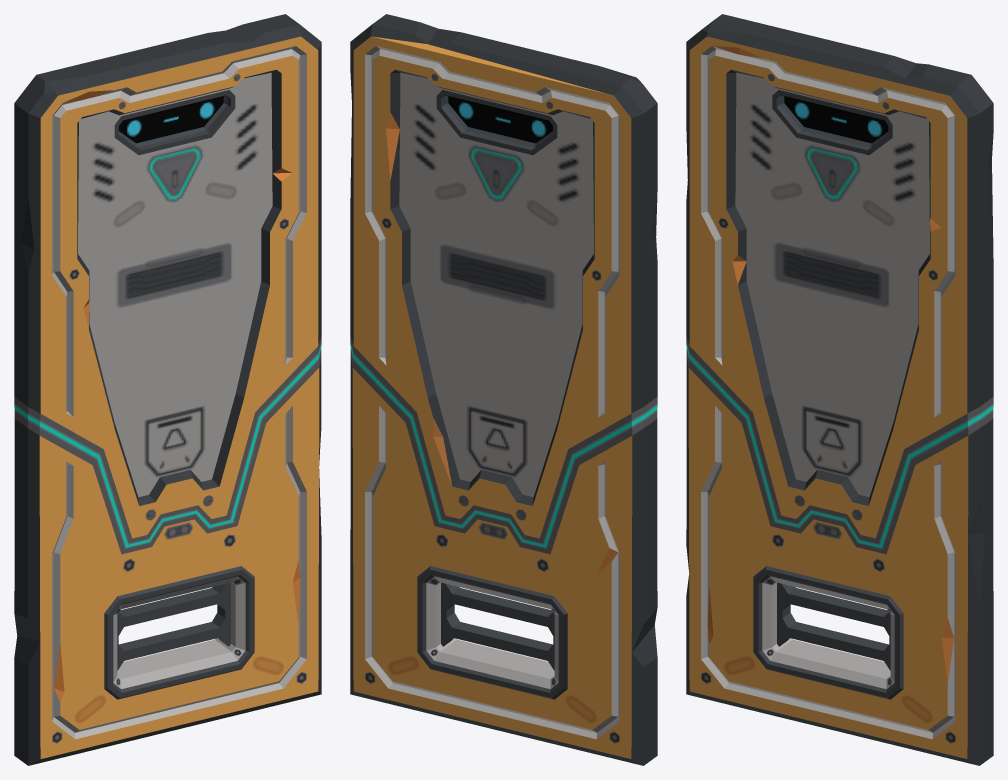
Rendered from SM_Bld_Door_NoFrame_Single_Large_01.fbx.
The picture shows the model from 3 angles, left to right: view 1: azimuth 30°, elevation 25°; view 2: azimuth 150°, elevation 25°; view 3: azimuth 330°, elevation 25°; orthographic projection.
Visible parts, largest first — view 1: SM_Bld_Door_NoFrame_Single_Large_01; view 2: SM_Bld_Door_NoFrame_Single_Large_01; view 3: SM_Bld_Door_NoFrame_Single_Large_01.
Part boxes in pixels (x1,y1,x2,y2): SM_Bld_Door_NoFrame_Single_Large_01: (14,14,321,765); SM_Bld_Door_NoFrame_Single_Large_01: (350,14,657,765); SM_Bld_Door_NoFrame_Single_Large_01: (686,14,993,765).
Bounding box in the file's own units: 112 × 247 × 17.24.
